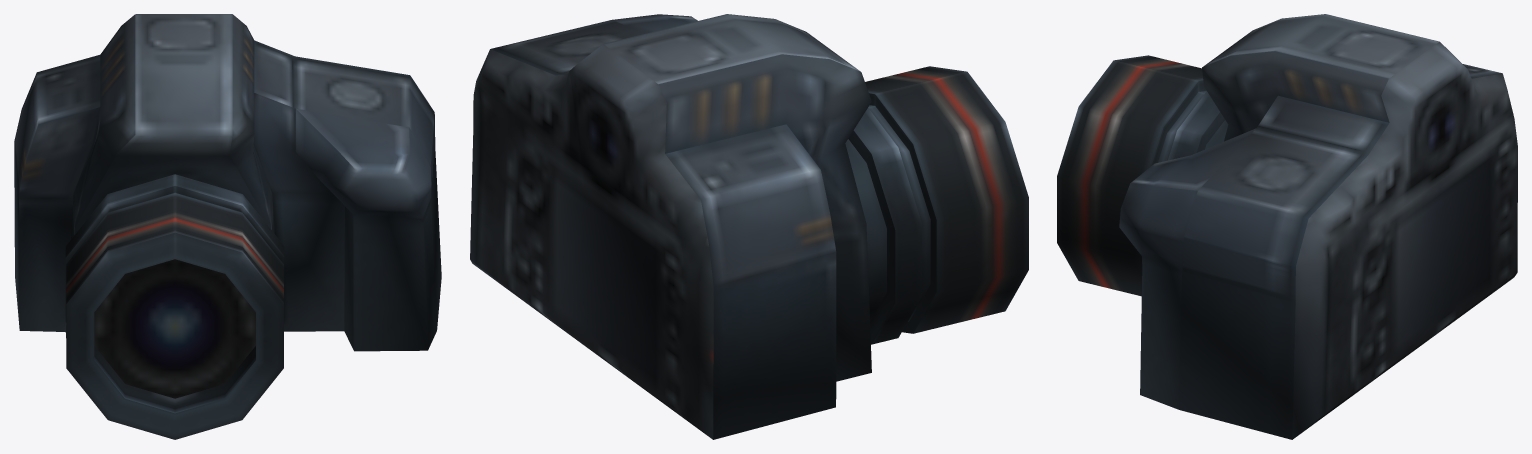
The model's file is TouKuiZheJia_01_zhaoxiangji_01.FBX.
3 views of the same model, side by side, from view 1: azimuth 30°, elevation 25°; view 2: azimuth 150°, elevation 25°; view 3: azimuth 270°, elevation 25° (orthographic). The views are drawn at different scales.
Parts seen in each view (by area): view 1: TouKuiZheJia_zhaoxiangji_01; view 2: TouKuiZheJia_zhaoxiangji_01; view 3: TouKuiZheJia_zhaoxiangji_01.
Boxes of the visible parts, x1=… form: TouKuiZheJia_zhaoxiangji_01: x1=14, y1=14, x2=441, y2=439; TouKuiZheJia_zhaoxiangji_01: x1=470, y1=14, x2=1028, y2=439; TouKuiZheJia_zhaoxiangji_01: x1=1057, y1=14, x2=1517, y2=439.
Bounding box in the file's own units: 125 × 78 × 111.
